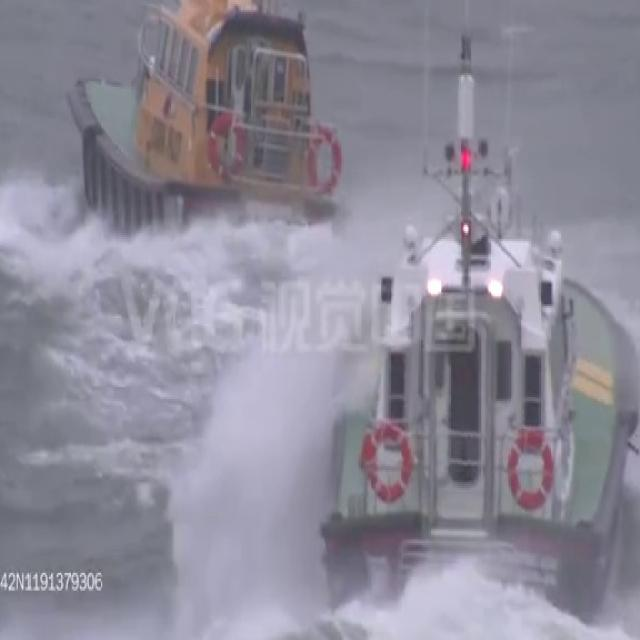houseboat: (327, 23, 637, 630), (65, 0, 344, 271)
